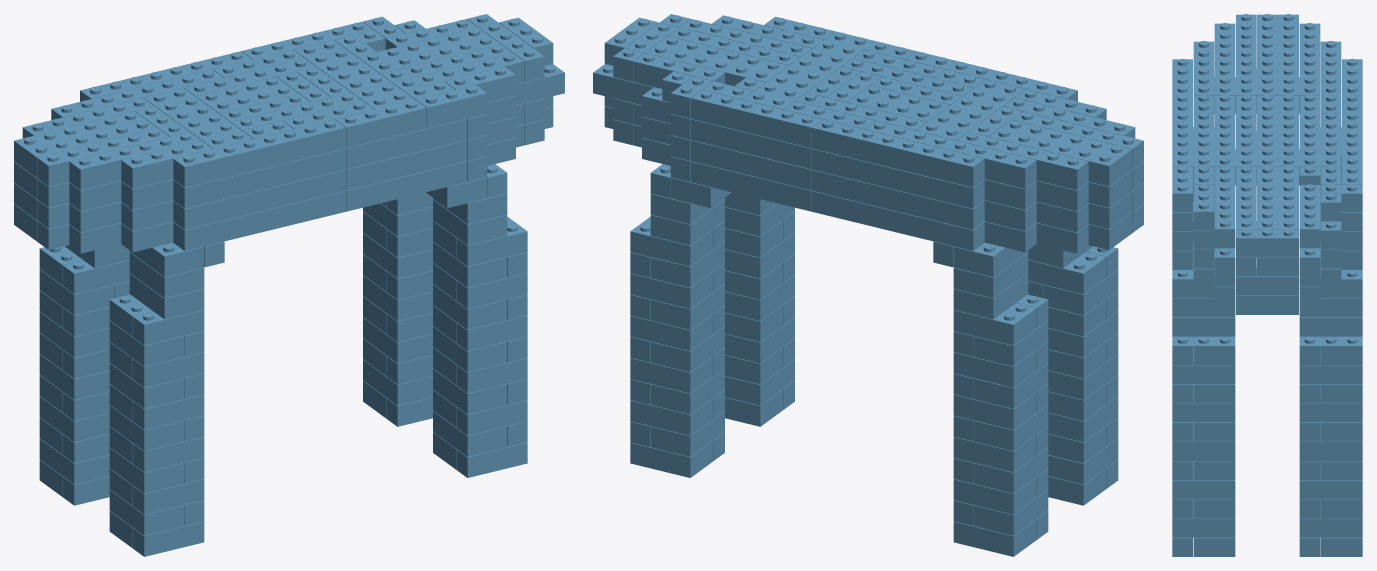
File: 223_table_L3.glb
The picture shows the model from 3 angles, left to right: view 1: azimuth 30°, elevation 25°; view 2: azimuth 150°, elevation 25°; view 3: azimuth 270°, elevation 25°; orthographic projection. The views are drawn at different scales.
Size of the model in its own units: 24.98 by 18.13 by 8.98.
